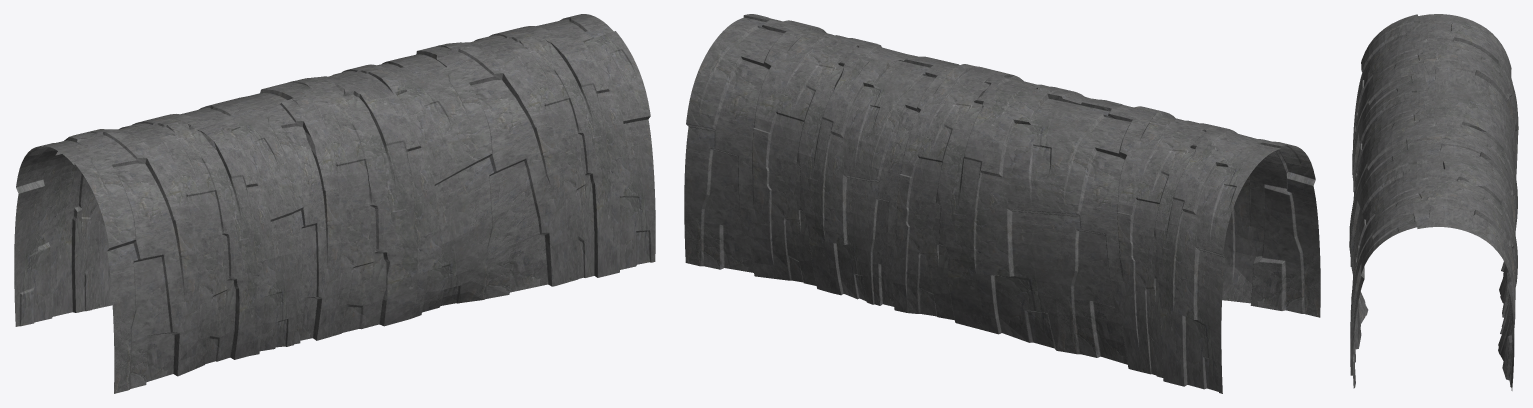
File: Tunnel_Ceiling.fbx
The picture shows the model from 3 angles, left to right: view 1: azimuth 30°, elevation 25°; view 2: azimuth 150°, elevation 25°; view 3: azimuth 270°, elevation 25°; orthographic projection. The views are drawn at different scales.
Visible parts, largest first — view 1: SM_ENV_NATURE_Cave_Tunnel_S_20m_02.mo; view 2: SM_ENV_NATURE_Cave_Tunnel_S_20m_02.mo; view 3: SM_ENV_NATURE_Cave_Tunnel_S_20m_02.mo.
Part boxes in pixels (x1,y1,x2,y2): SM_ENV_NATURE_Cave_Tunnel_S_20m_02.mo: (14, 14, 655, 393); SM_ENV_NATURE_Cave_Tunnel_S_20m_02.mo: (684, 14, 1320, 393); SM_ENV_NATURE_Cave_Tunnel_S_20m_02.mo: (1349, 14, 1518, 390).
Size of the model in its own units: 2000 by 749 by 671.
1 material, 1 textured.
